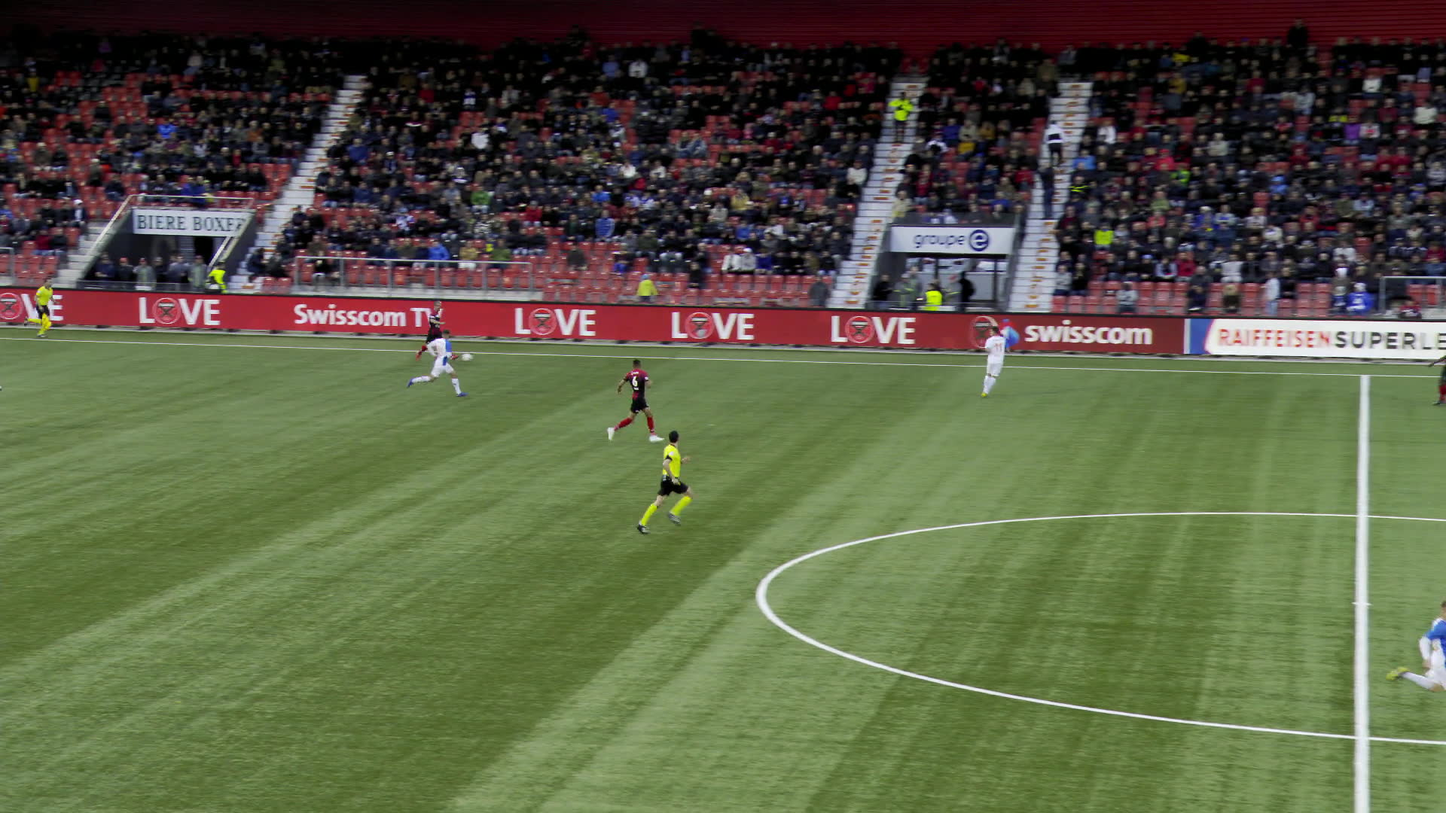ball: (470, 354, 479, 361)
player: (1386, 601, 1445, 694), (612, 361, 659, 445), (978, 327, 1016, 398), (418, 331, 453, 400), (415, 300, 450, 358), (1428, 355, 1445, 406), (0, 385, 2, 391)
referee: (628, 430, 699, 531), (29, 275, 65, 336)
